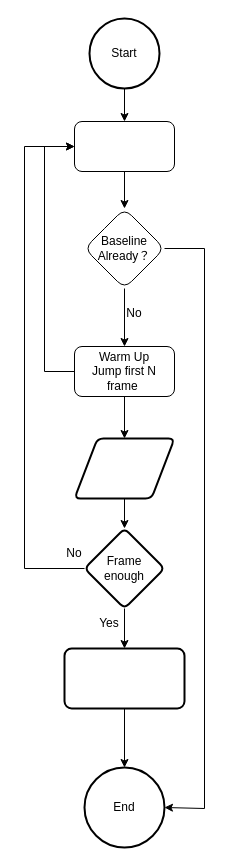
Image size: 230x865. Some labels were removed from this diagram. The shapes that lost their labels are listed below. From the top down, each one's centre as x and y in pixels, then its label:
the point at 124,146: Sensing end
the point at 124,468: Accumulate data
the point at 124,678: Calculate average value
